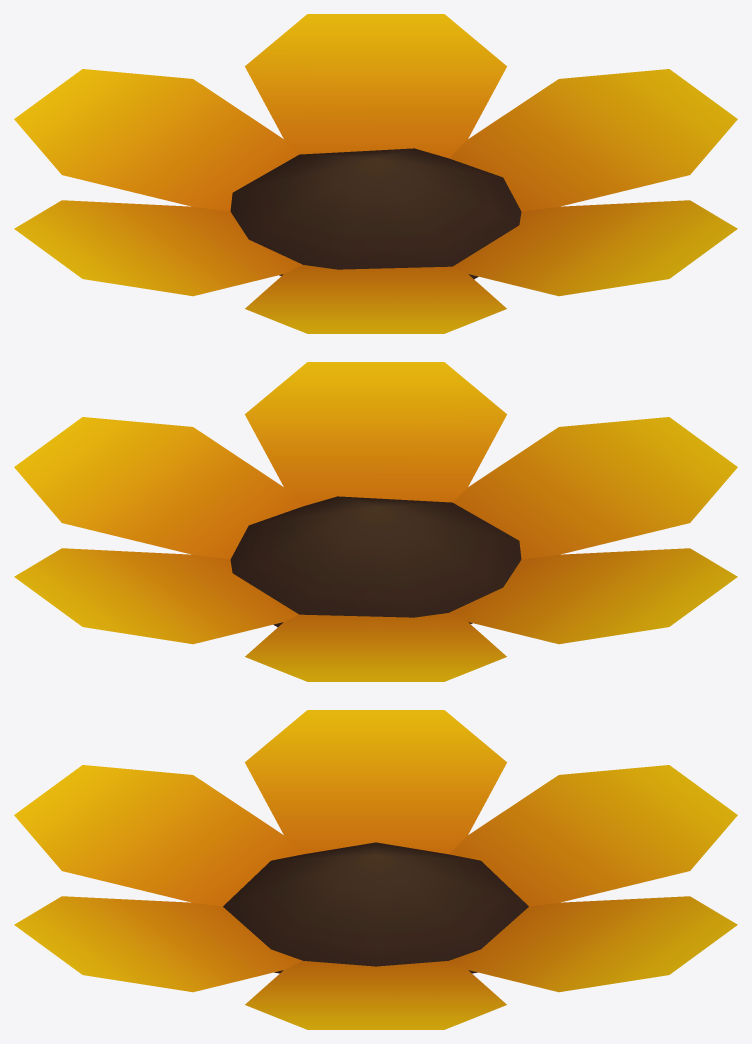
Rendered from Flower_1B.fbx.
3 renders of one model, top to bottom at view 1: azimuth 30°, elevation 25°; view 2: azimuth 150°, elevation 25°; view 3: azimuth 270°, elevation 25°, orthographic.
Visible parts, largest first — view 1: Flower_1B; view 2: Flower_1B; view 3: Flower_1B.
Part boxes in pixels (x1,y1,x2,y2): Flower_1B: (14, 14, 737, 333); Flower_1B: (14, 362, 737, 681); Flower_1B: (14, 710, 737, 1029).
Size of the model in its own units: 54.85 by 5.21 by 52.48.
